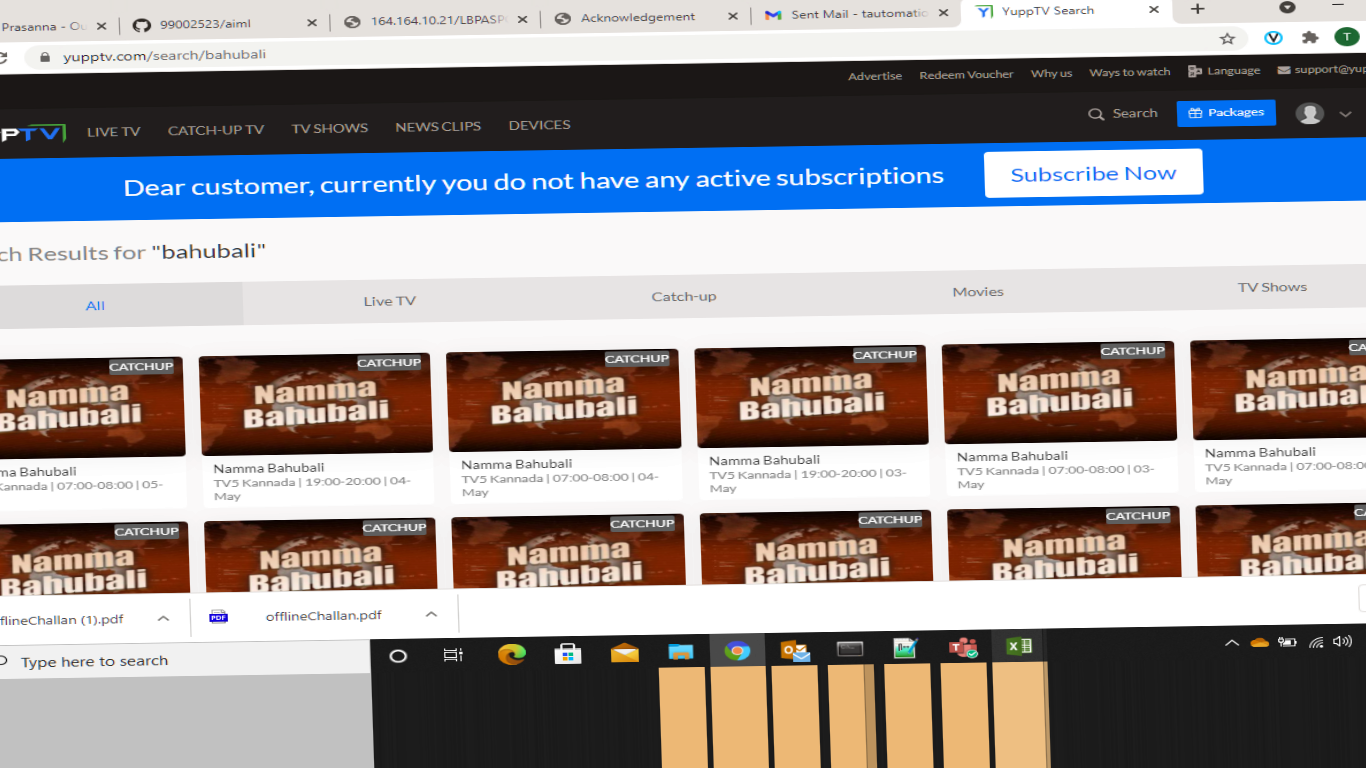profileicon: (1294, 98, 1359, 138)
resultsfound: (1, 232, 281, 278)
searchicon: (1078, 96, 1164, 137)
